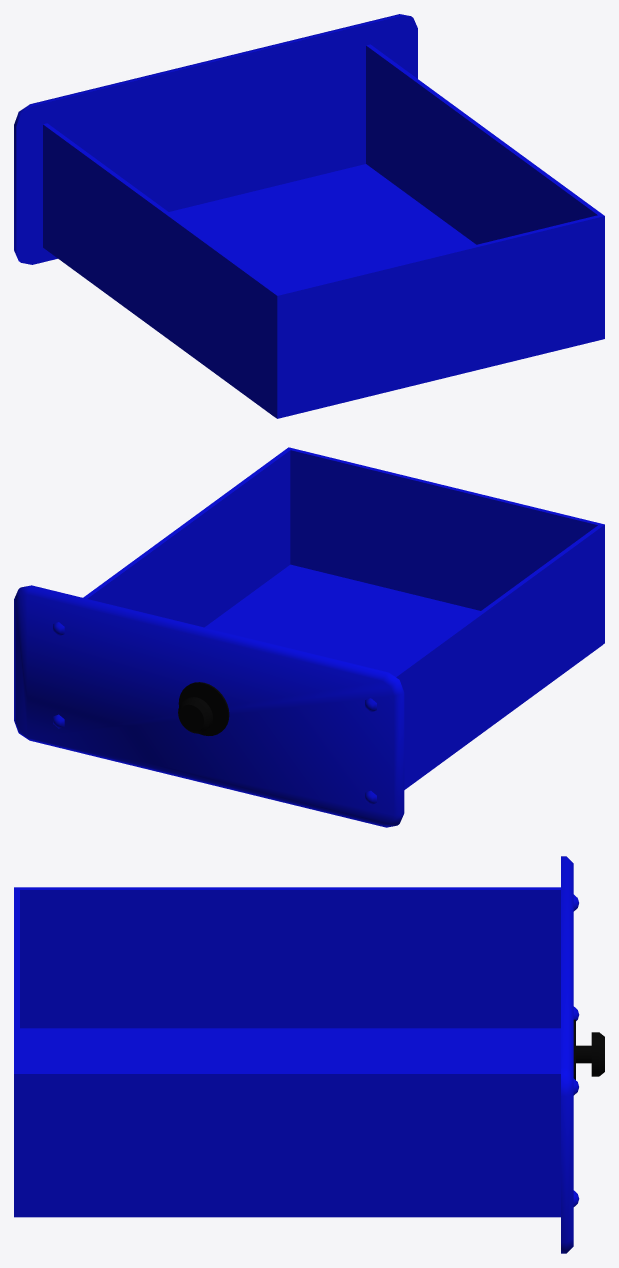
File: TableBox.fbx
3 renders of one model, top to bottom at view 1: azimuth 30°, elevation 25°; view 2: azimuth 150°, elevation 25°; view 3: azimuth 270°, elevation 25°, orthographic. The views are drawn at different scales.
Parts seen in each view (by area): view 1: TableBox; view 2: TableBox; view 3: TableBox.
Part boxes in pixels (<box>): TableBox: <box>14,14,604,418</box>; TableBox: <box>14,447,604,827</box>; TableBox: <box>14,856,604,1253</box>.
Bounding box in the file's own units: 83.38 × 31.54 × 91.05.
